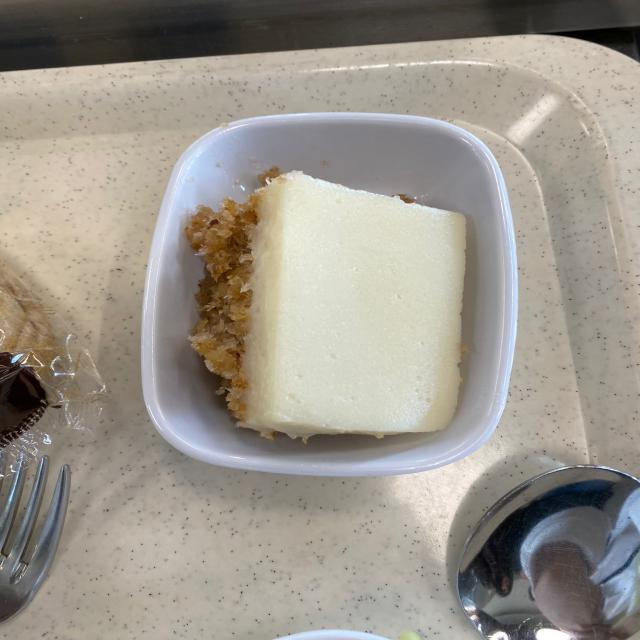yan_yemek: (179, 156, 486, 458)
